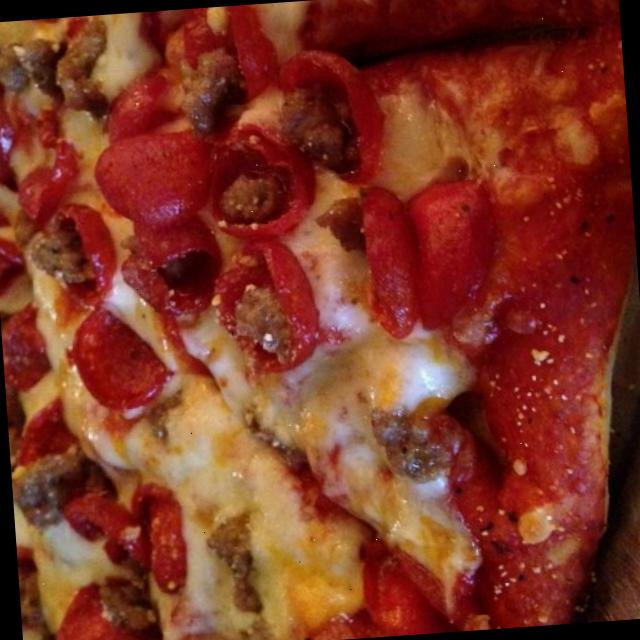pepperoni: (92, 104, 230, 230), (399, 170, 497, 346), (206, 238, 336, 366), (274, 38, 382, 175), (344, 170, 426, 350), (108, 210, 230, 320), (198, 122, 310, 238), (346, 528, 460, 638), (64, 302, 166, 416), (0, 78, 89, 206), (122, 460, 200, 598), (212, 2, 298, 108), (96, 66, 194, 148), (42, 582, 155, 640), (0, 287, 59, 395), (61, 484, 141, 560)
pizza: (0, 0, 640, 640)
